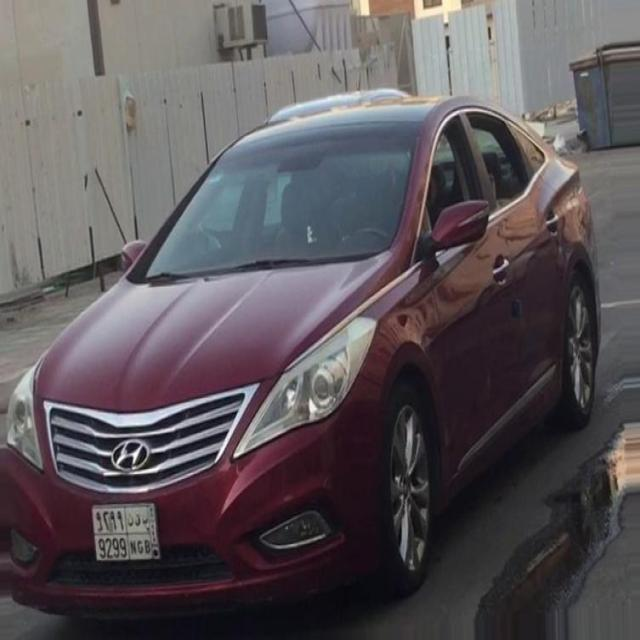Car-plate: (84, 493, 172, 575)
